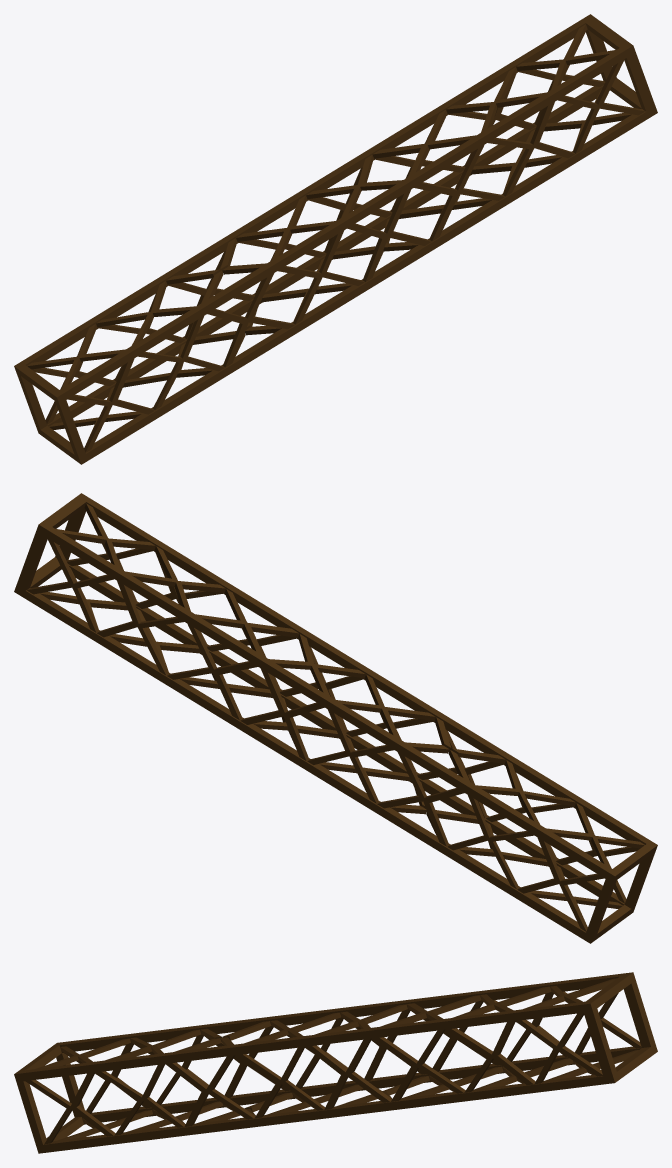
The model's file is Heup Links Achter balk voor_boven.fbx.
3 views of the same model, one above another, from view 1: azimuth 30°, elevation 25°; view 2: azimuth 150°, elevation 25°; view 3: azimuth 330°, elevation 25° (orthographic).
Visible parts, largest first — view 1: Metalen paal.005; view 2: Metalen paal.005; view 3: Metalen paal.005.
Part boxes in pixels (box(x1,y1,x2,y2)): Metalen paal.005: box(14, 14, 657, 464); Metalen paal.005: box(14, 493, 657, 943); Metalen paal.005: box(14, 972, 657, 1153).
Bounding box in the file's own units: 754 × 341 × 93.22.
